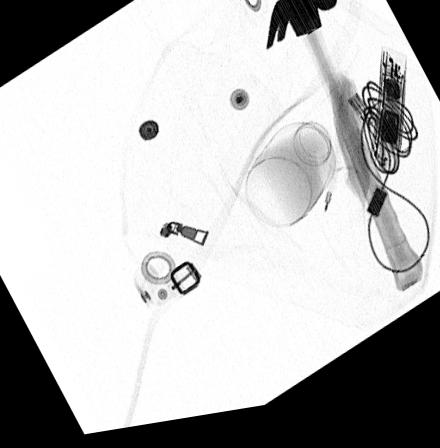Hammer: (265, 0, 422, 307)
